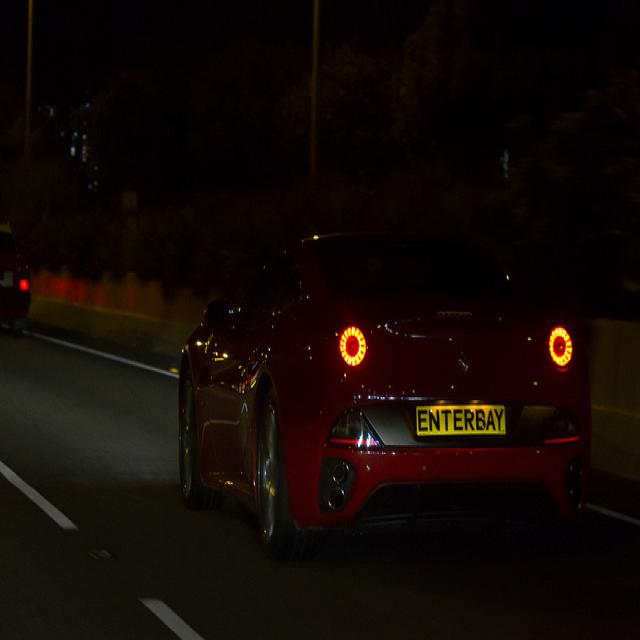car: (152, 254, 602, 569), (0, 173, 50, 360)
